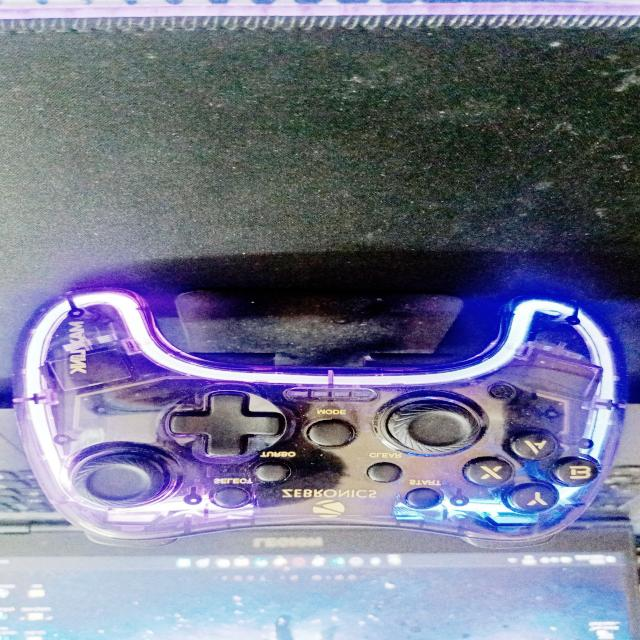gamepad: (11, 286, 629, 550)
